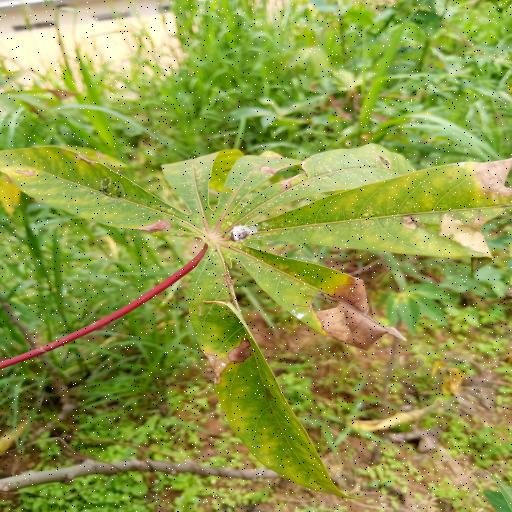Cassava_Brown_Leaf_Spot: (5, 139, 512, 498)
